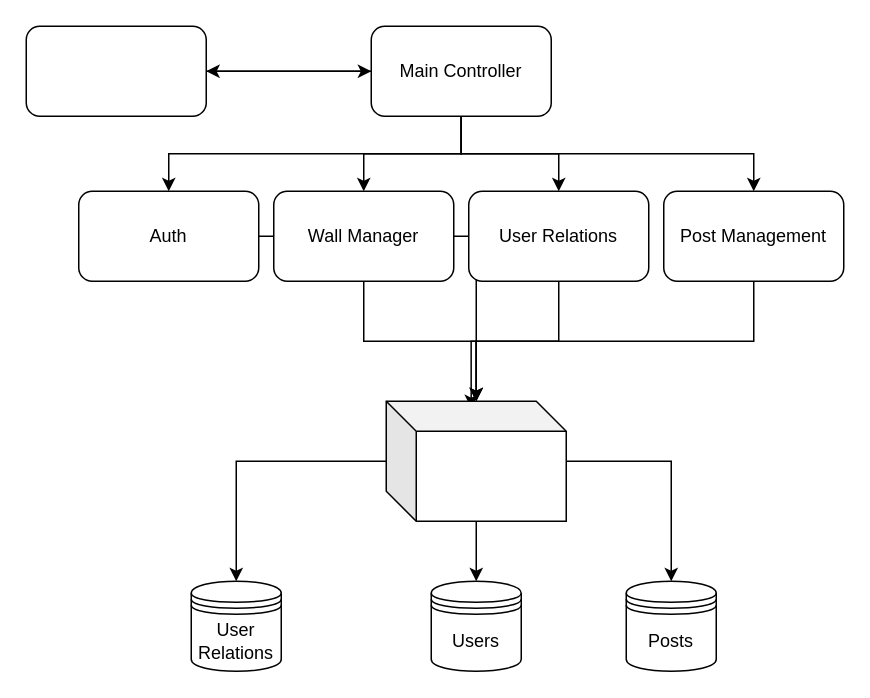
Image size: 870x698. Some labels were removed from this diagram. Here are the shapes that lost their labels. From the top down, the centre of each, then its label:
At [115,70]: "Communication".
At [475,460]: "Data Storage Connection".
